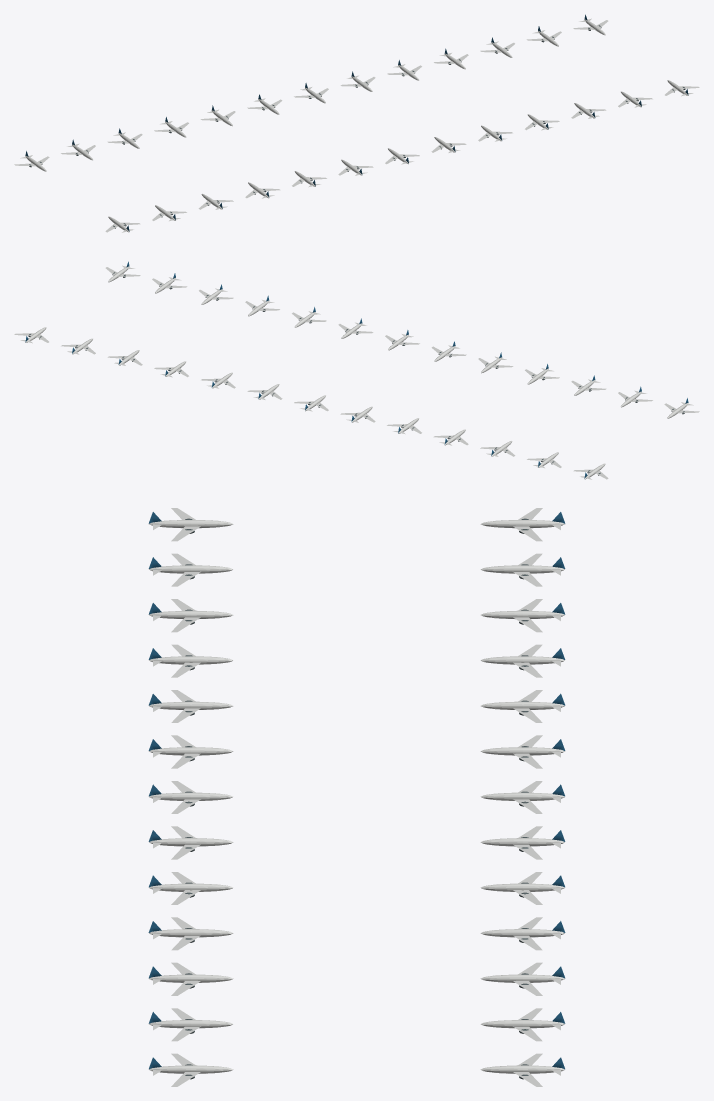
Rendered from aus-aircraft-context.glb.
3 views of the same model, one above another, from view 1: azimuth 30°, elevation 25°; view 2: azimuth 150°, elevation 25°; view 3: azimuth 270°, elevation 25° (orthographic). The views are drawn at different scales.
Visible parts, largest first — view 1: 50 Aircraft - illustrative__Aircraft blue - illustrative; view 2: 50 Aircraft - illustrative__Aircraft blue - illustrative; view 3: 50 Aircraft - illustrative__Aircraft blue - illustrative.
Boxes of the visible parts, x1,y1,x2,y2 form: 50 Aircraft - illustrative__Aircraft blue - illustrative: (14,14,699,232); 50 Aircraft - illustrative__Aircraft blue - illustrative: (14,261,699,479); 50 Aircraft - illustrative__Aircraft blue - illustrative: (148,508,565,1086).
Bounding box in the file's own units: 611 × 8.4 × 186.
